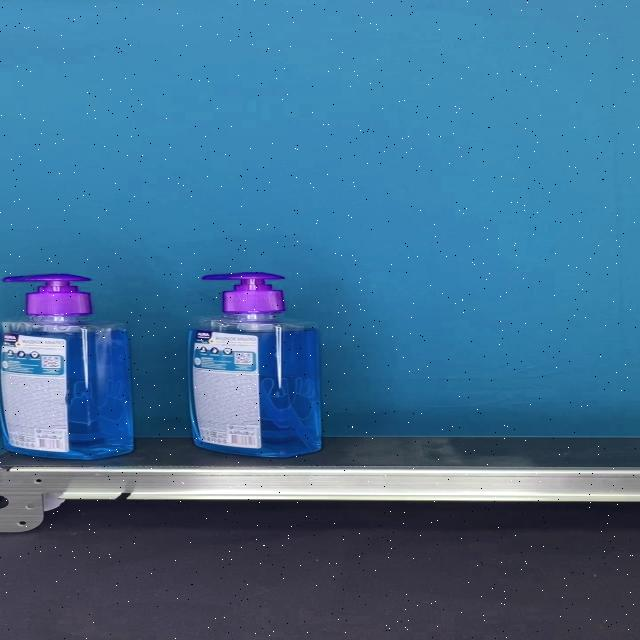Bottle: (186, 272, 322, 458), (0, 273, 133, 460)
Cap: (1, 274, 91, 316), (202, 272, 285, 314)
